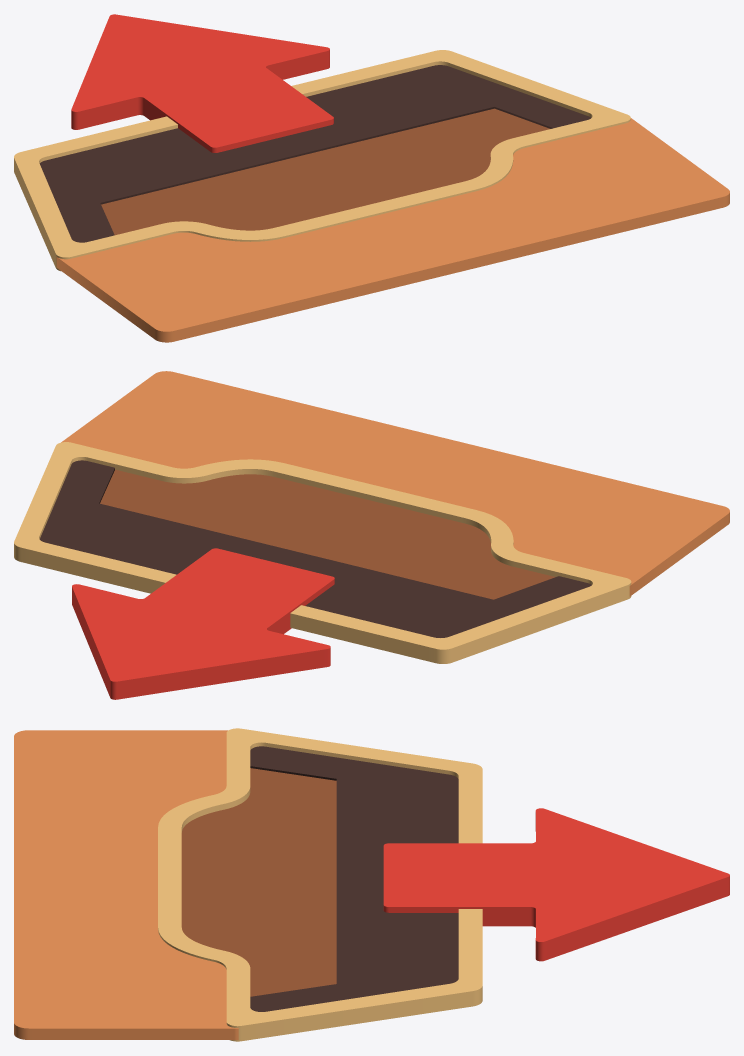
The model's file is emoji_u1f4e4.glb.
3 renders of one model, top to bottom at view 1: azimuth 30°, elevation 25°; view 2: azimuth 150°, elevation 25°; view 3: azimuth 270°, elevation 25°, orthographic. The views are drawn at different scales.
Parts seen in each view (by area): view 1: emoji_u1f4e4; view 2: emoji_u1f4e4; view 3: emoji_u1f4e4.
Part boxes in pixels (x1=…): emoji_u1f4e4: x1=14, y1=14, x2=729, y2=342; emoji_u1f4e4: x1=14, y1=371, x2=729, y2=699; emoji_u1f4e4: x1=14, y1=728, x2=729, y2=1041.
Size of the model in its own units: 0.0332 by 0.001 by 0.0337.
